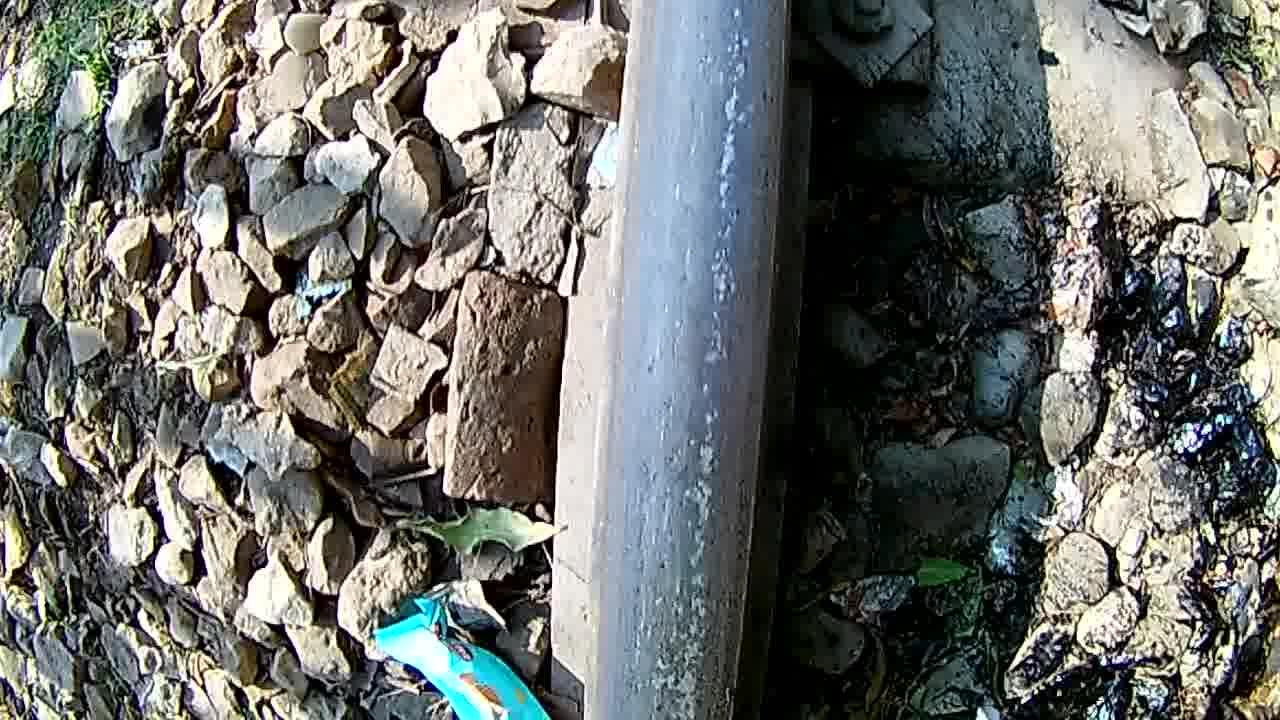clip_missing: (590, 0, 796, 717)
